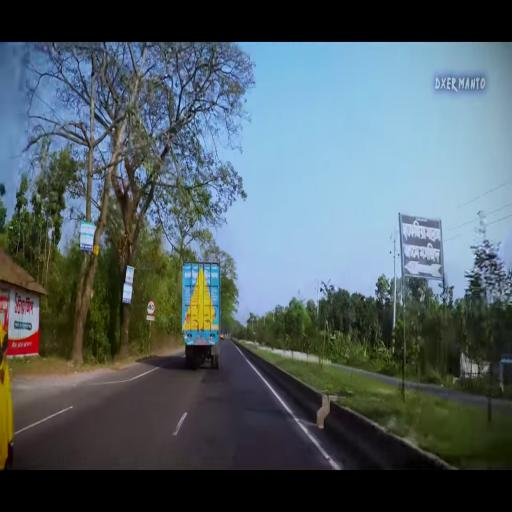truck: (179, 260, 223, 371)
